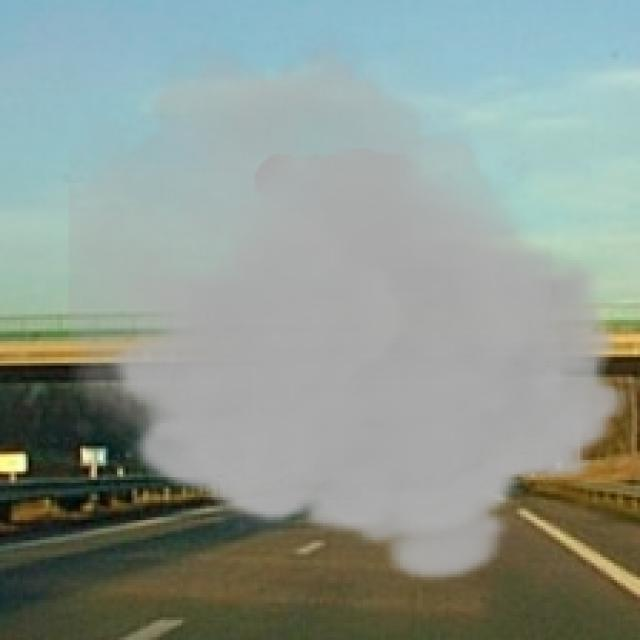smoke: (69, 28, 632, 586)
